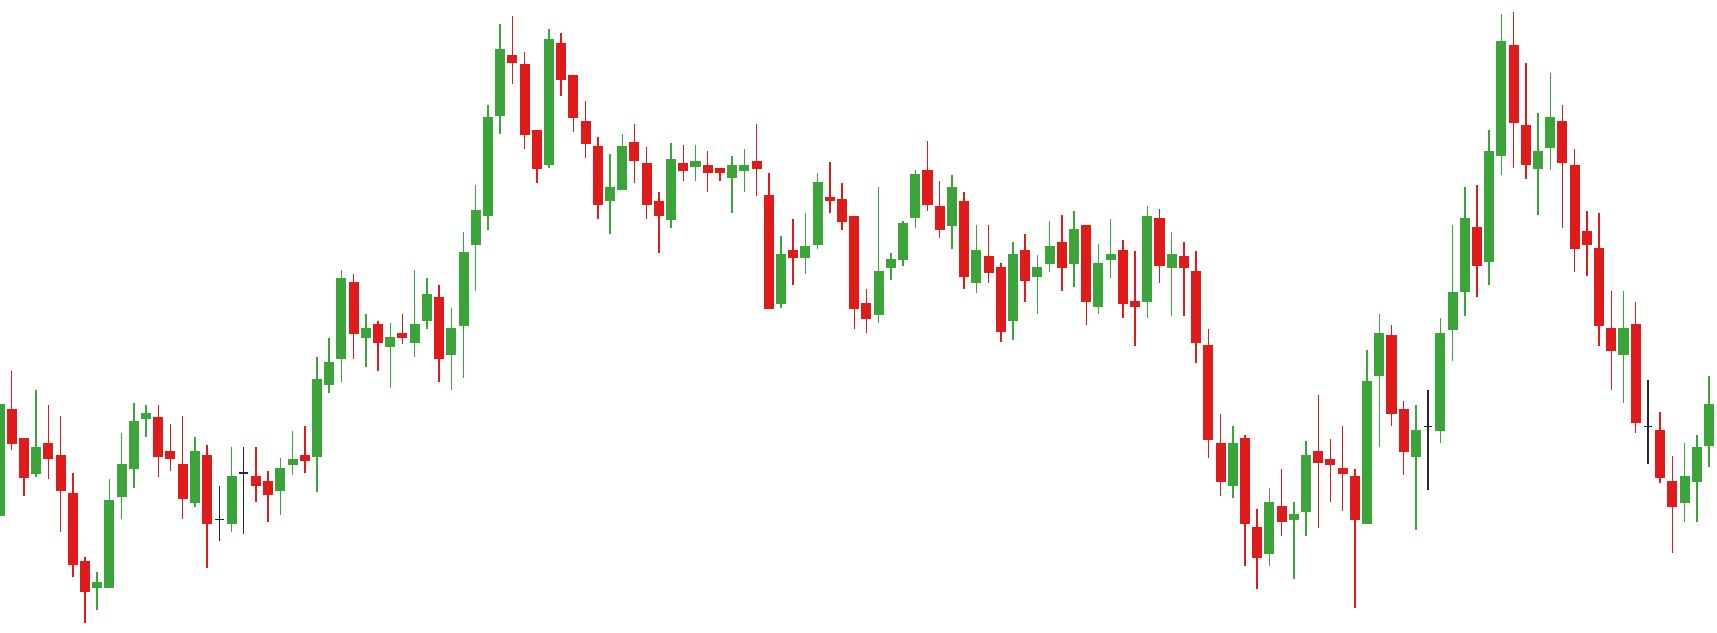buy: (1288, 462, 1361, 611)
sell: (823, 128, 936, 258)
